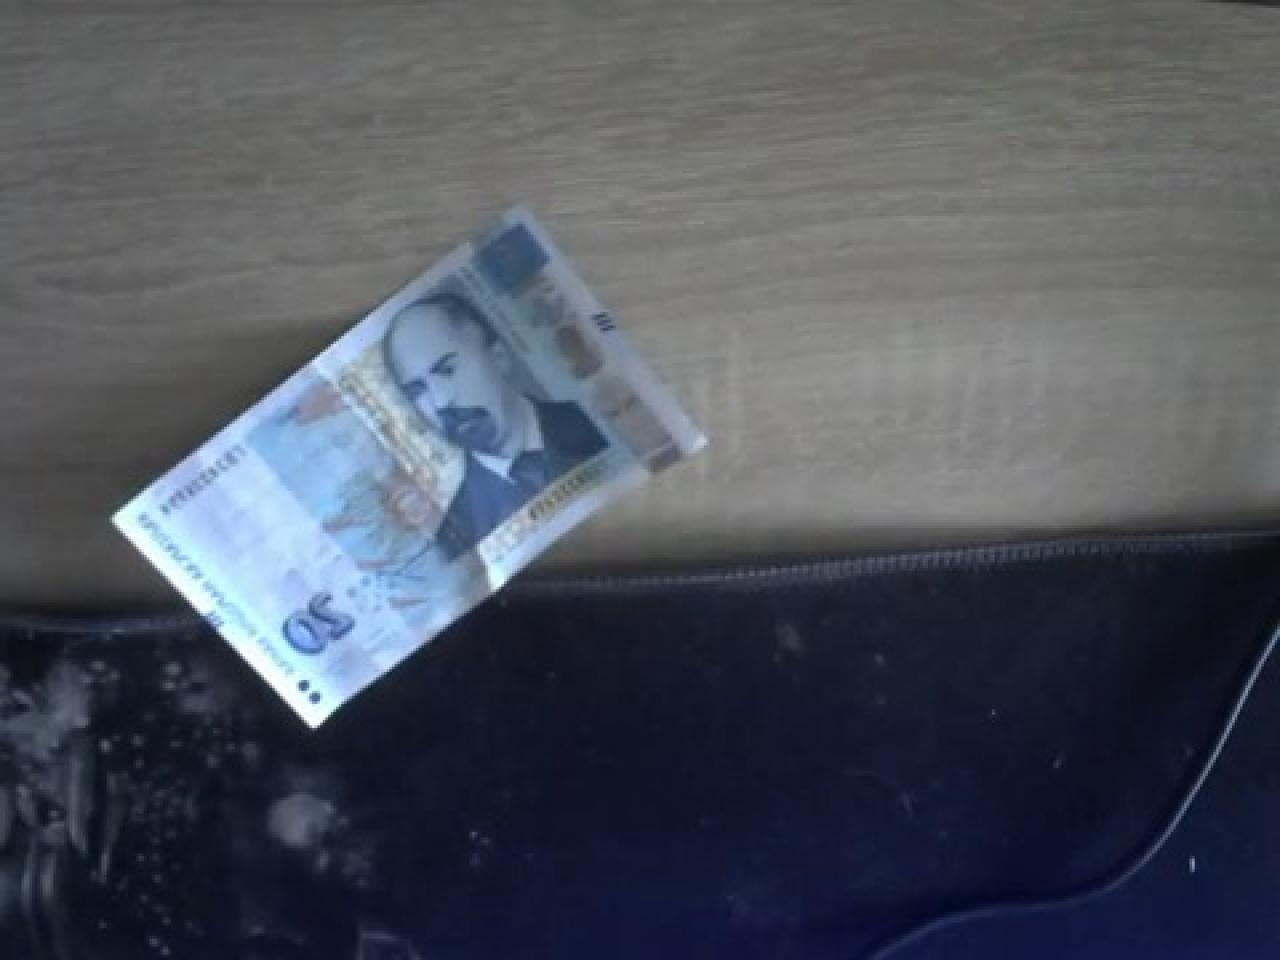20leva: (110, 203, 710, 733)
